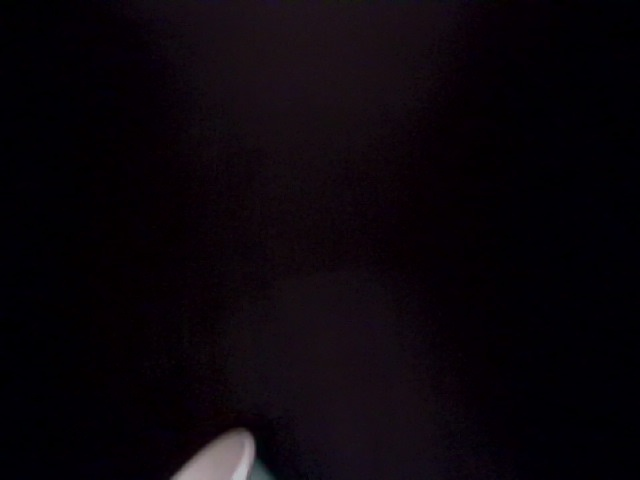CYLJ: (245, 69, 349, 171)
